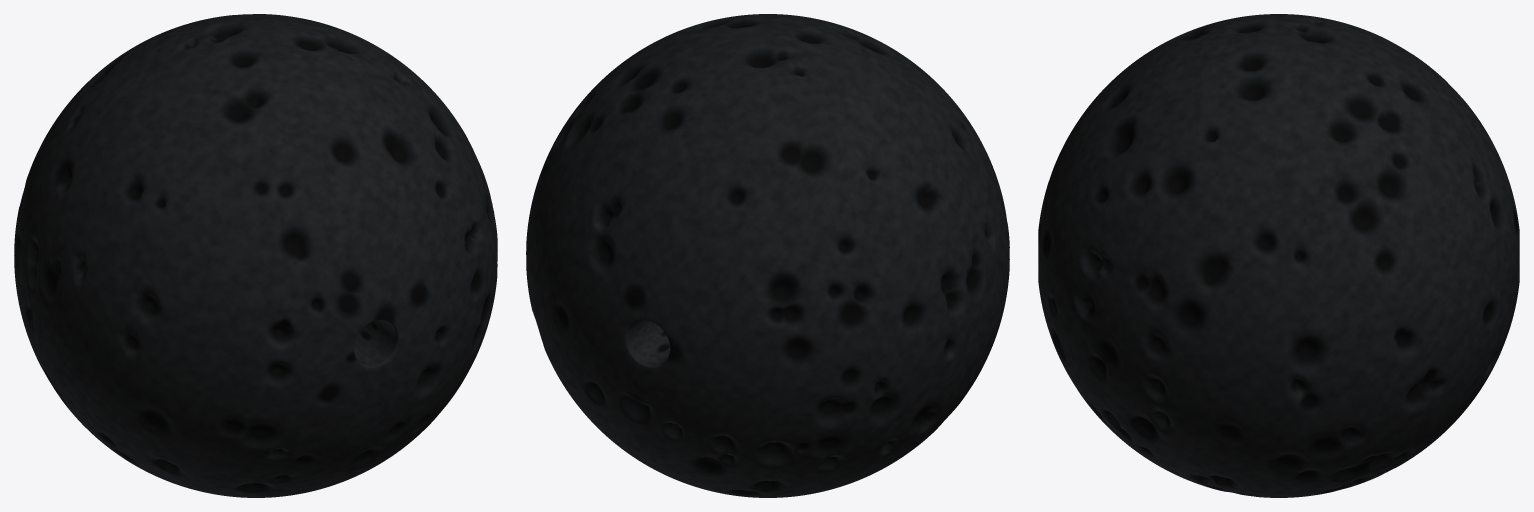
Rendered from black-lava-10mm.glb.
The picture shows the model from 3 angles, left to right: view 1: azimuth 30°, elevation 25°; view 2: azimuth 150°, elevation 25°; view 3: azimuth 270°, elevation 25°; orthographic projection.
Visible parts, largest first — view 1: black-lava.001; view 2: black-lava.001; view 3: black-lava.001.
Boxes of the visible parts, x1,y1,x2,y2 form: black-lava.001: [14, 14, 497, 497]; black-lava.001: [526, 14, 1009, 497]; black-lava.001: [1038, 14, 1519, 497].
Size of the model in its own units: 0.01 by 0.00999 by 0.00994.
Materials: 1 (1 with a texture image).
